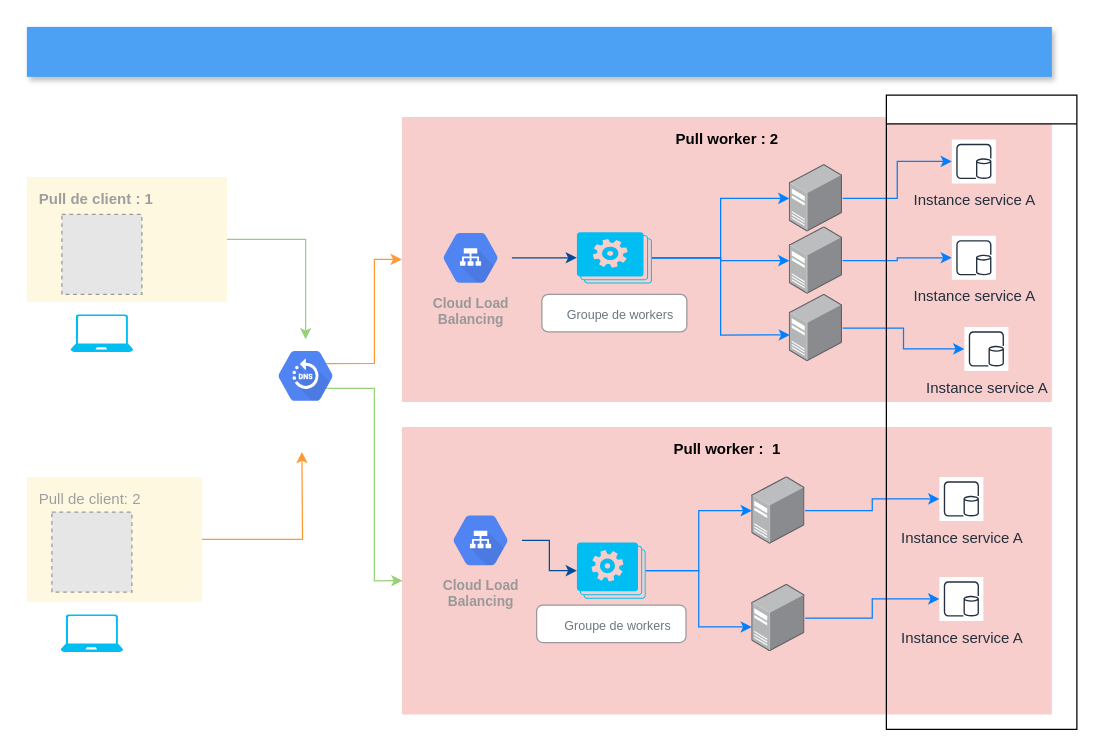
Image size: 1099x751. Some labels were removed from this diagram. Grey dashed boxes stand in for pictures. Each missing label, with the centre of its shape:
"Architecture d'un Pull Client" belongs at point 540,53.
"Cloud DNS" belongs at point 305,375.
"Service A" belongs at point 981,411.
